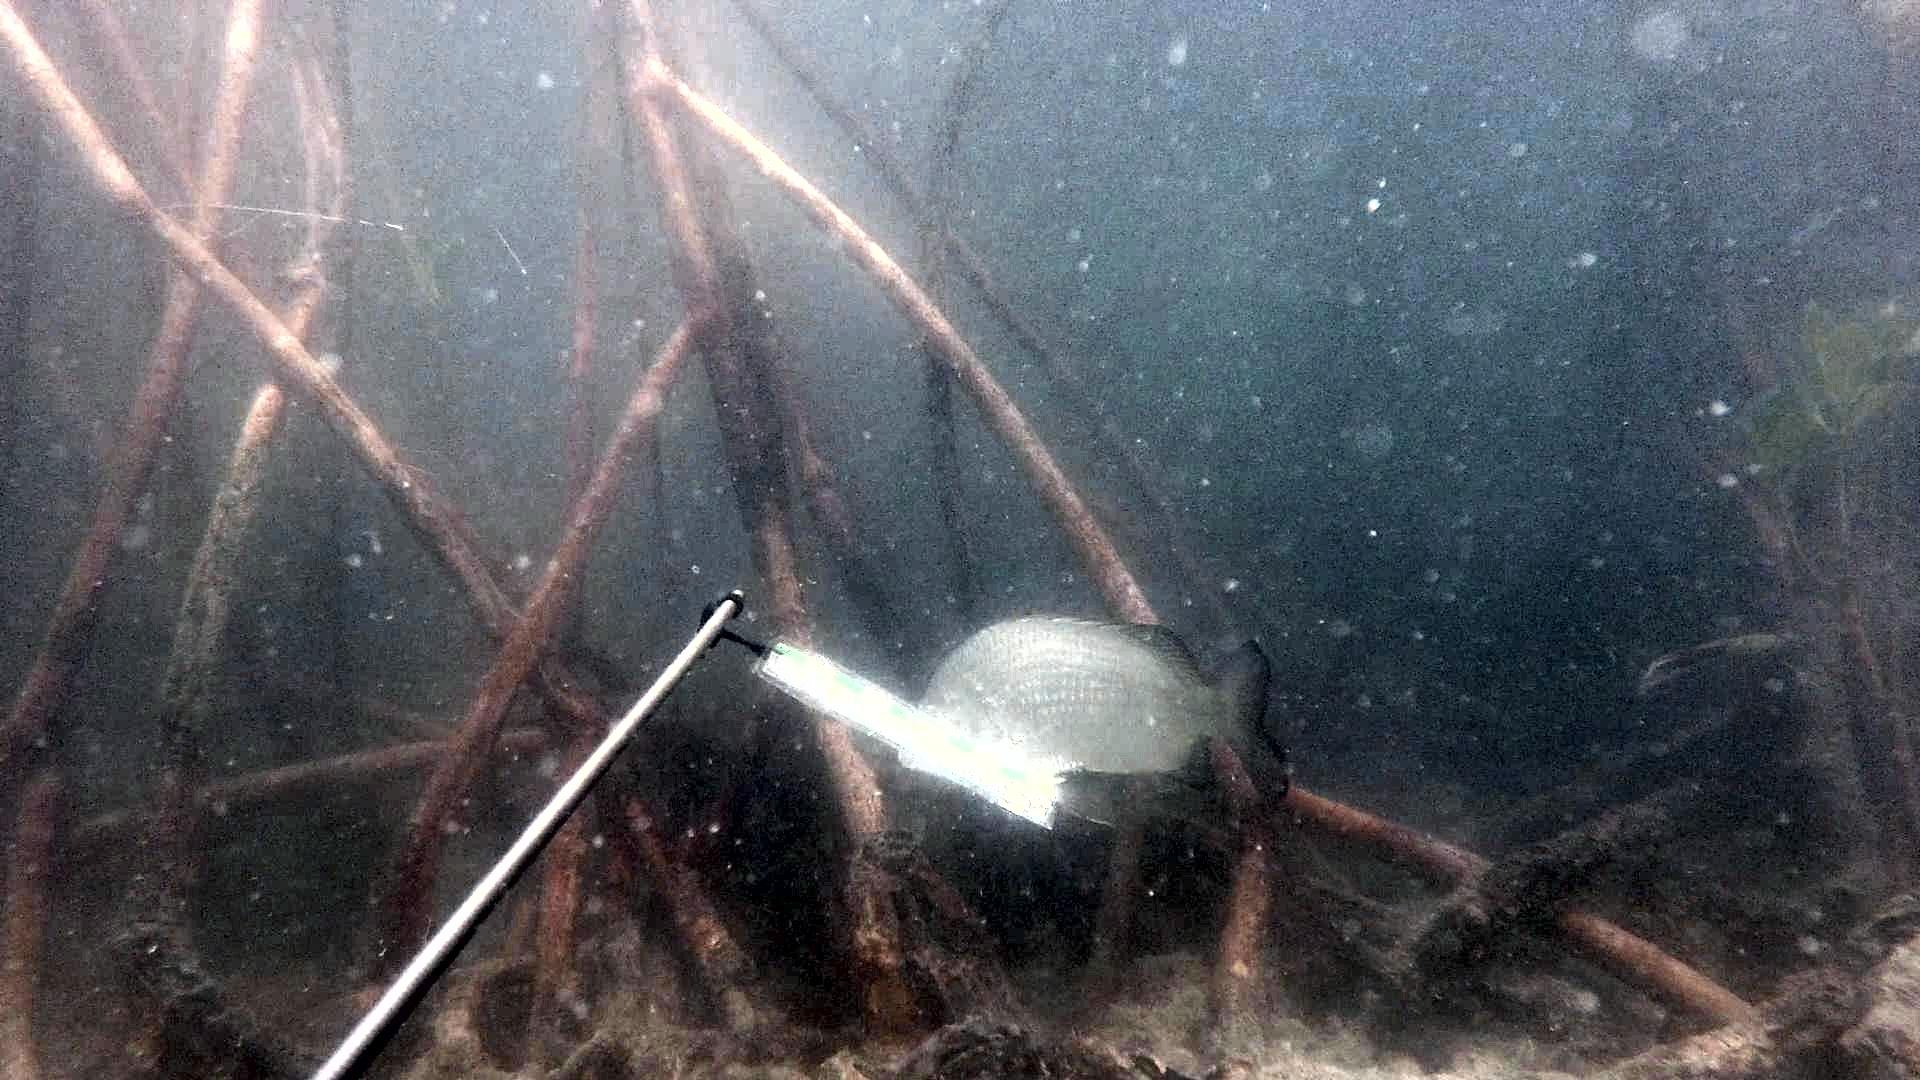acanthopagrus palmaris: (898, 606, 1304, 823)
